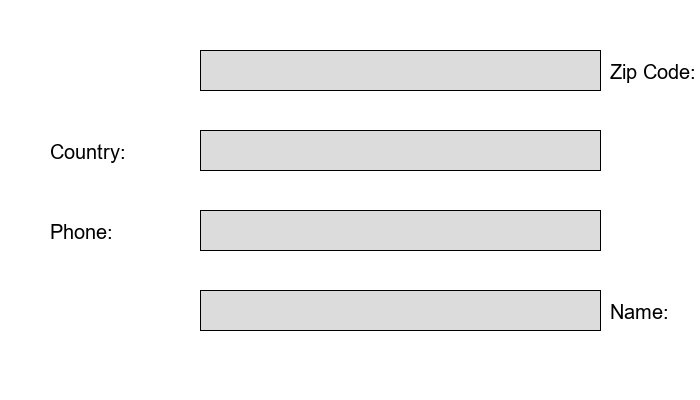Label: (610, 60, 690, 79), (50, 140, 120, 159), (50, 220, 107, 235), (610, 300, 663, 315)
Textbox: (200, 50, 600, 90), (200, 130, 600, 170), (200, 210, 600, 250), (200, 290, 600, 330)
